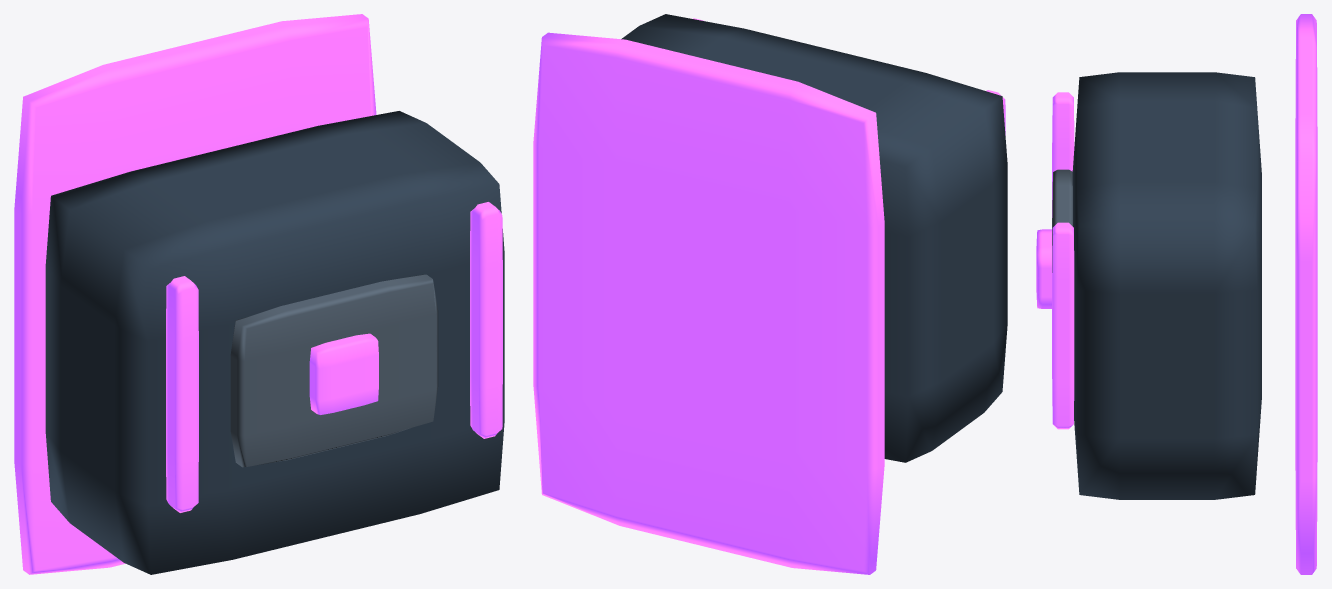
File: guardian-night.glb
The picture shows the model from 3 angles, left to right: view 1: azimuth 30°, elevation 25°; view 2: azimuth 150°, elevation 25°; view 3: azimuth 270°, elevation 25°; orthographic projection. The views are drawn at different scales.
Visible parts, largest first — view 1: Torso, Cape, Panel, StripeR, StripeL, Core; view 2: Cape, Torso; view 3: Torso, Cape, StripeR, StripeL, Core, Panel.
Boxes of the visible parts, left/top/right/bottom form: Torso: left=45, top=111, right=504, bottom=574; Cape: left=14, top=14, right=376, bottom=574; Panel: left=230, top=274, right=438, bottom=467; StripeR: left=470, top=202, right=502, bottom=438; StripeL: left=166, top=276, right=198, bottom=512; Core: left=309, top=333, right=378, bottom=414; Cape: left=533, top=32, right=884, bottom=574; Torso: left=621, top=14, right=1007, bottom=462; Torso: left=1072, top=72, right=1261, bottom=499; Cape: left=1295, top=14, right=1317, bottom=574; StripeR: left=1052, top=222, right=1074, bottom=429; StripeL: left=1052, top=92, right=1074, bottom=217; Core: left=1036, top=229, right=1051, bottom=308; Panel: left=1052, top=169, right=1072, bottom=272.
Size of the model in its own units: 2.05 by 2.6 by 1.52.
